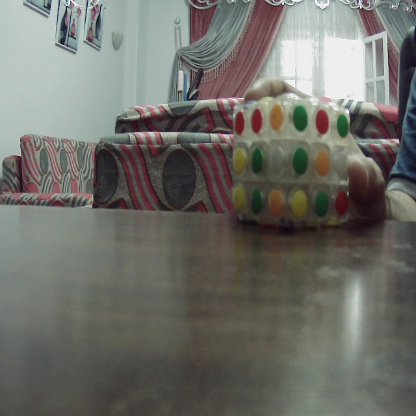Rubix Cube: (230, 100, 349, 224)
